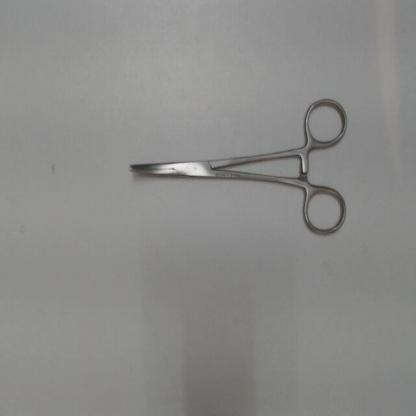Crile Artery Forceps: (120, 89, 357, 246)
